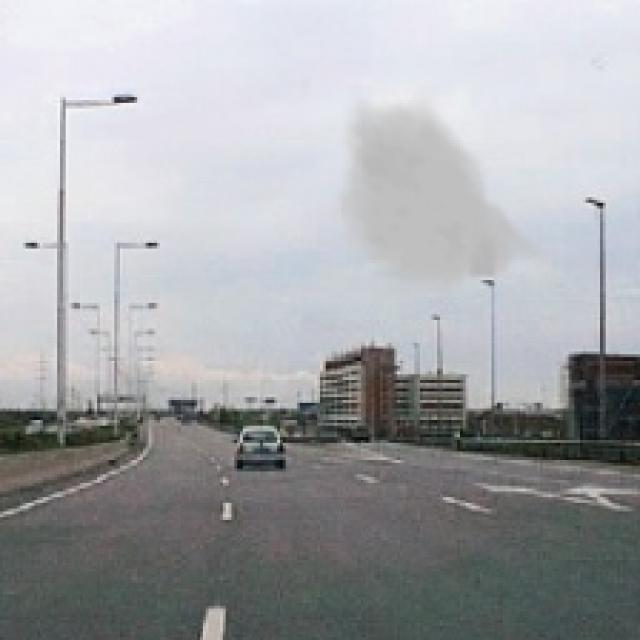Smoke: (331, 86, 560, 306)
